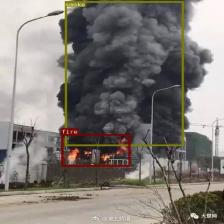fire: (61, 134, 130, 166)
smoke: (64, 1, 184, 146)
